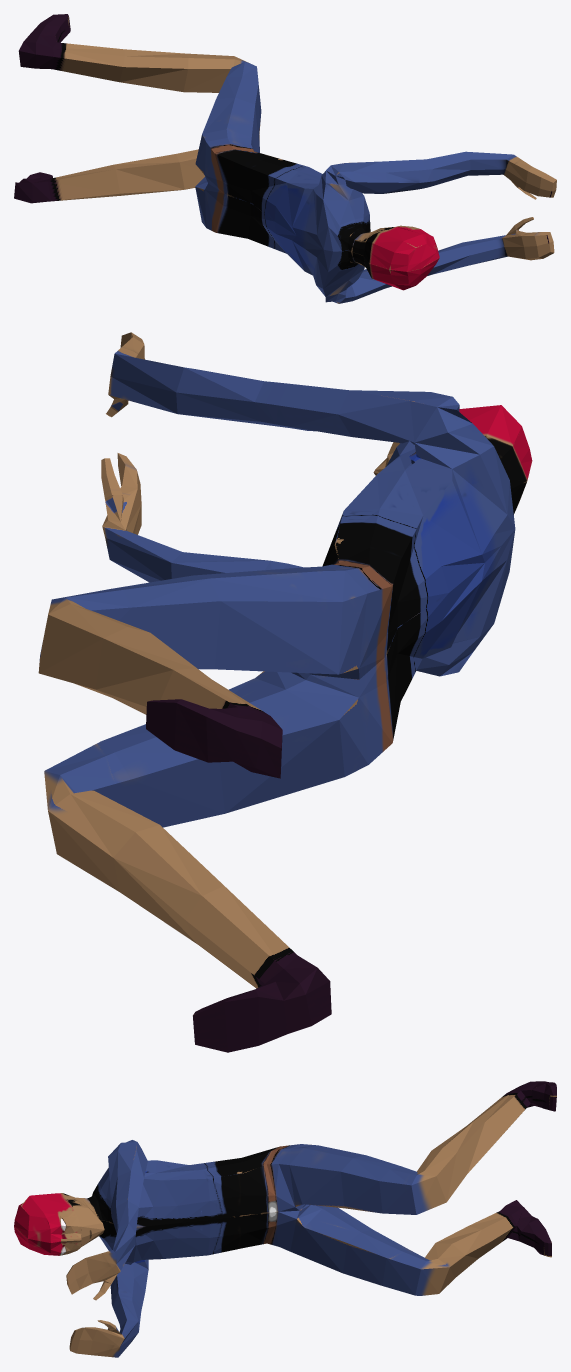
The model's file is mirrorman_000025.obj.
3 renders of one model, top to bottom at view 1: azimuth 30°, elevation 25°; view 2: azimuth 150°, elevation 25°; view 3: azimuth 270°, elevation 25°, orthographic. The views are drawn at different scales.
Visible parts, largest first — view 1: mirrorman_Cube.001_Material.001; view 2: mirrorman_Cube.001_Material.001; view 3: mirrorman_Cube.001_Material.001.
Boxes of the visible parts, x1,y1,x2,y2 form: mirrorman_Cube.001_Material.001: [14, 14, 556, 303]; mirrorman_Cube.001_Material.001: [38, 332, 532, 1052]; mirrorman_Cube.001_Material.001: [14, 1081, 556, 1357].
Bounding box in the file's own units: 1.08 × 0.5515 × 1.52.
Materials: 1 (1 with a texture image).
